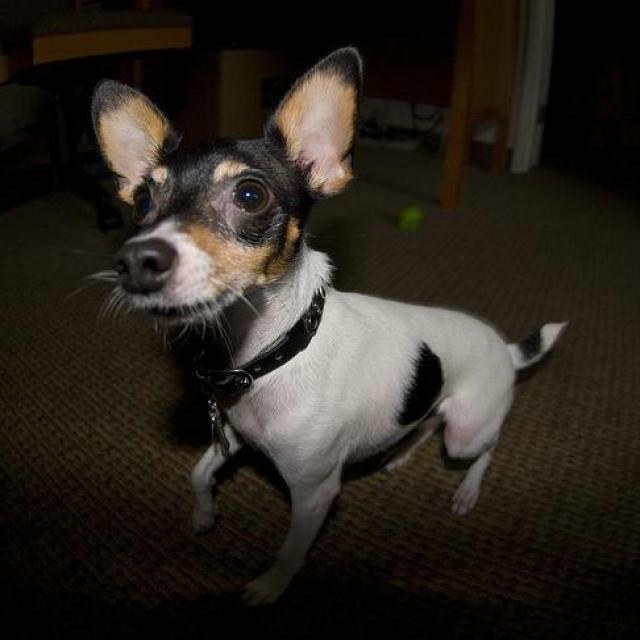toy_terrier: (87, 42, 570, 602)
